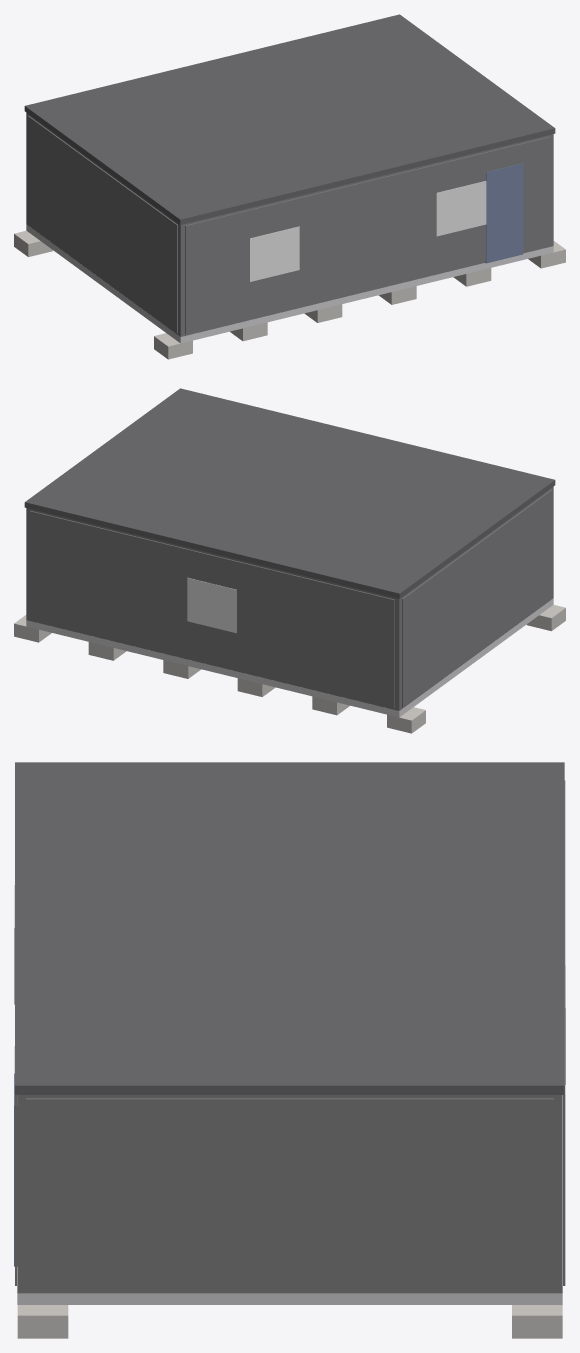
The model's file is Studio-30-Base-CharcoalSilver-LOD3.glb.
The picture shows the model from 3 angles, top to bottom: view 1: azimuth 30°, elevation 25°; view 2: azimuth 150°, elevation 25°; view 3: azimuth 270°, elevation 25°; orthographic projection. The views are drawn at different scales.
Parts seen in each view (by area): view 1: RoofMain, ExteriorPanelsStandard, WindowsStandard, BaseFrame, FoundationBlocks, ExteriorShell, EntryDoor; view 2: RoofMain, ExteriorPanelsStandard, BaseFrame, ExteriorShell, FoundationBlocks, WindowsStandard; view 3: RoofMain, ExteriorPanelsStandard, ExteriorShell, BaseFrame, FoundationBlocks.
Boxes of the visible parts, <box> form: RoofMain: <box>24,14,555,224</box>; ExteriorPanelsStandard: <box>27,115,549,334</box>; WindowsStandard: <box>249,181,486,281</box>; BaseFrame: <box>26,224,553,343</box>; FoundationBlocks: <box>14,230,565,359</box>; ExteriorShell: <box>26,112,553,336</box>; EntryDoor: <box>485,163,523,263</box>; RoofMain: <box>24,388,555,598</box>; ExteriorPanelsStandard: <box>30,489,552,708</box>; BaseFrame: <box>26,598,553,717</box>; ExteriorShell: <box>26,486,553,710</box>; FoundationBlocks: <box>14,604,565,733</box>; WindowsStandard: <box>187,577,236,633</box>; RoofMain: <box>15,762,564,1094</box>; ExteriorPanelsStandard: <box>15,780,565,1290</box>; ExteriorShell: <box>17,1095,562,1293</box>; BaseFrame: <box>17,1293,562,1304</box>; FoundationBlocks: <box>17,1305,562,1338</box>.
Size of the model in its own units: 9.6 by 3.17 by 6.53.
